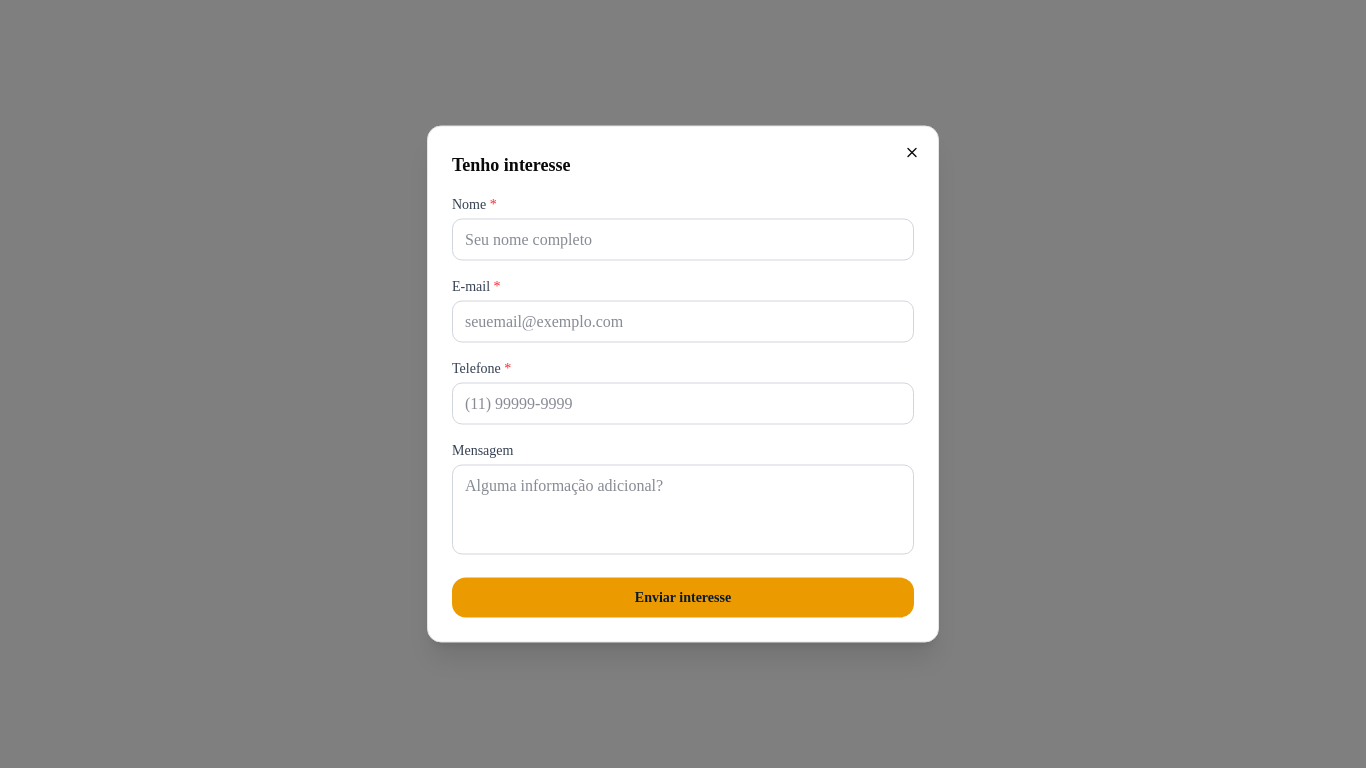
Test: LeadVarejoModal › exibe mensagem "Entraremos em contato em breve" após envio bem-sucedido
Type "João Silva" into the field labelled "Nome *" at (683, 240), box [452,218,914,260]
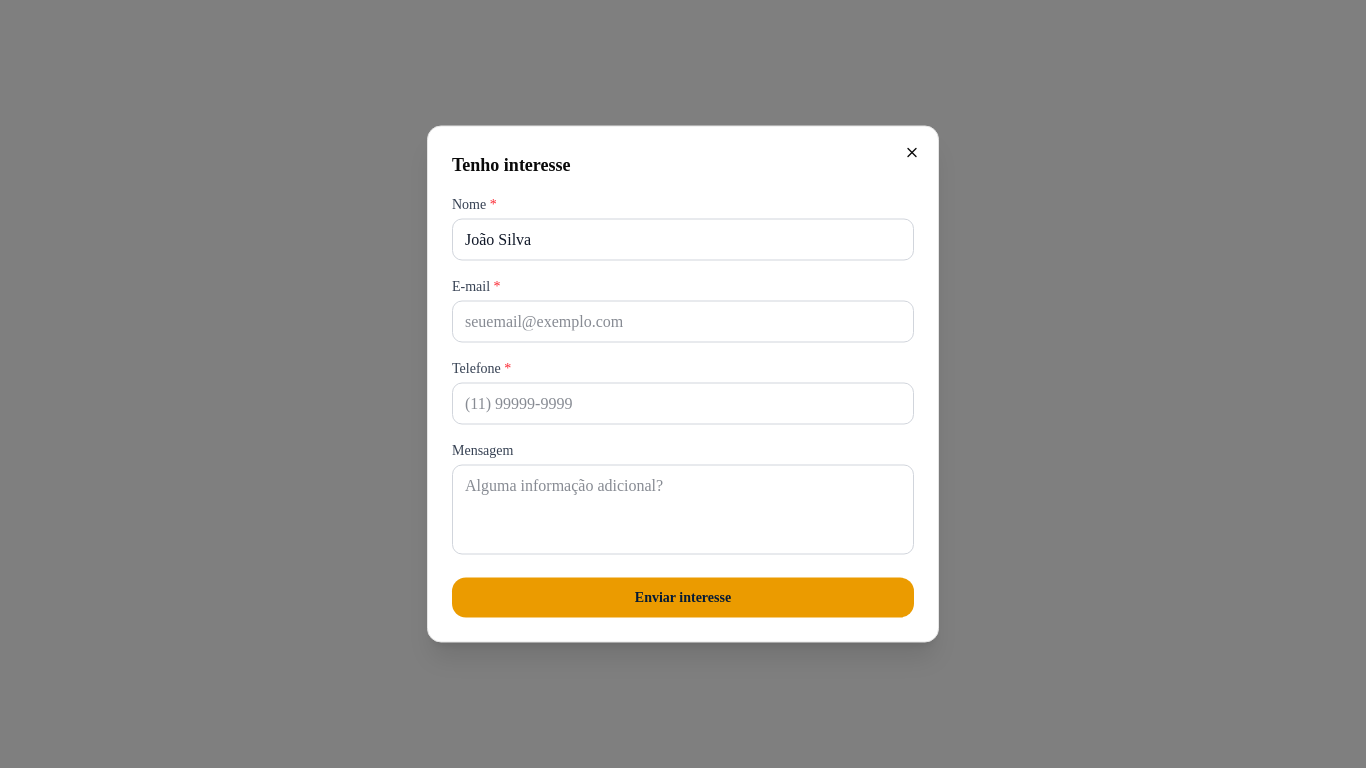
Type "joao@example.com" into the field labelled "E-mail *" at (683, 322), box [452,300,914,342]
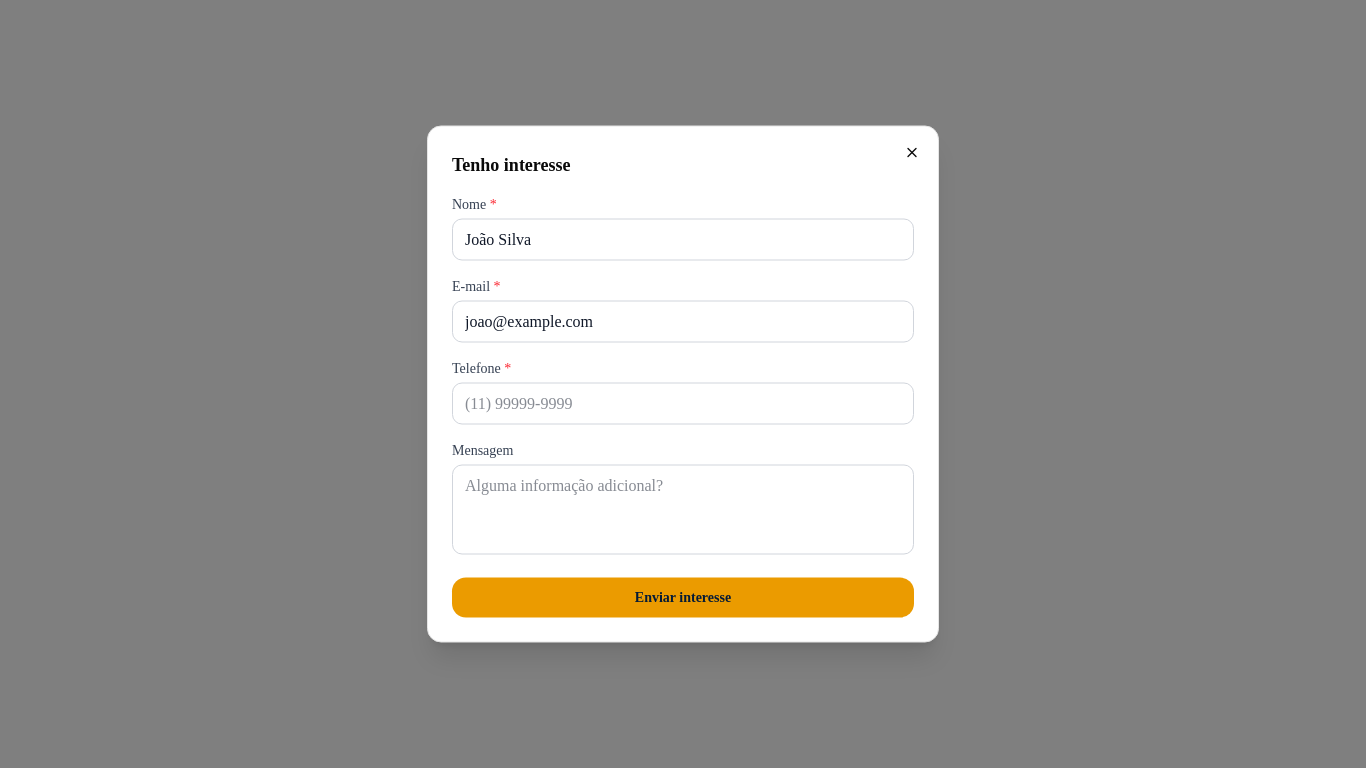
Type "11999999999" into the field labelled "Telefone *" at (683, 404), box [452,382,914,424]
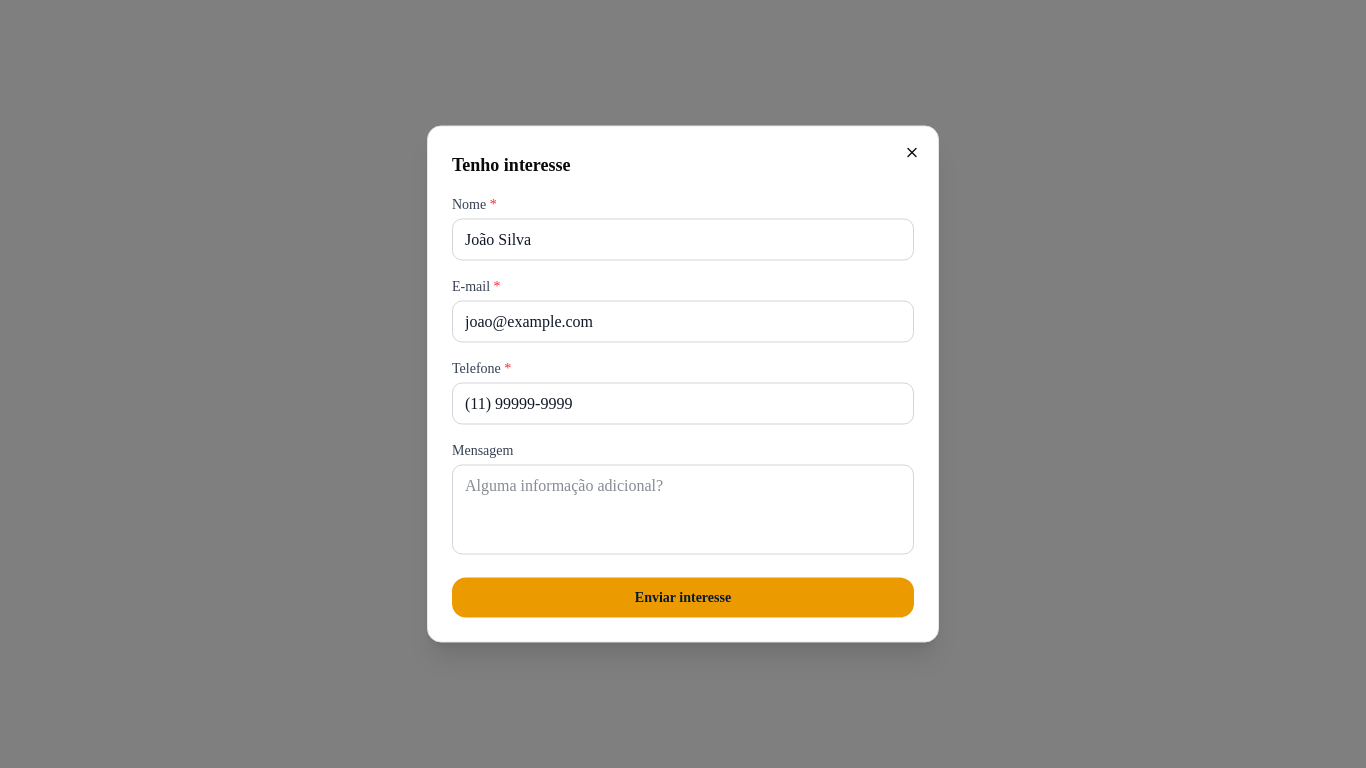
Submit the form with test id "form-varejo", box [452,194,914,618]
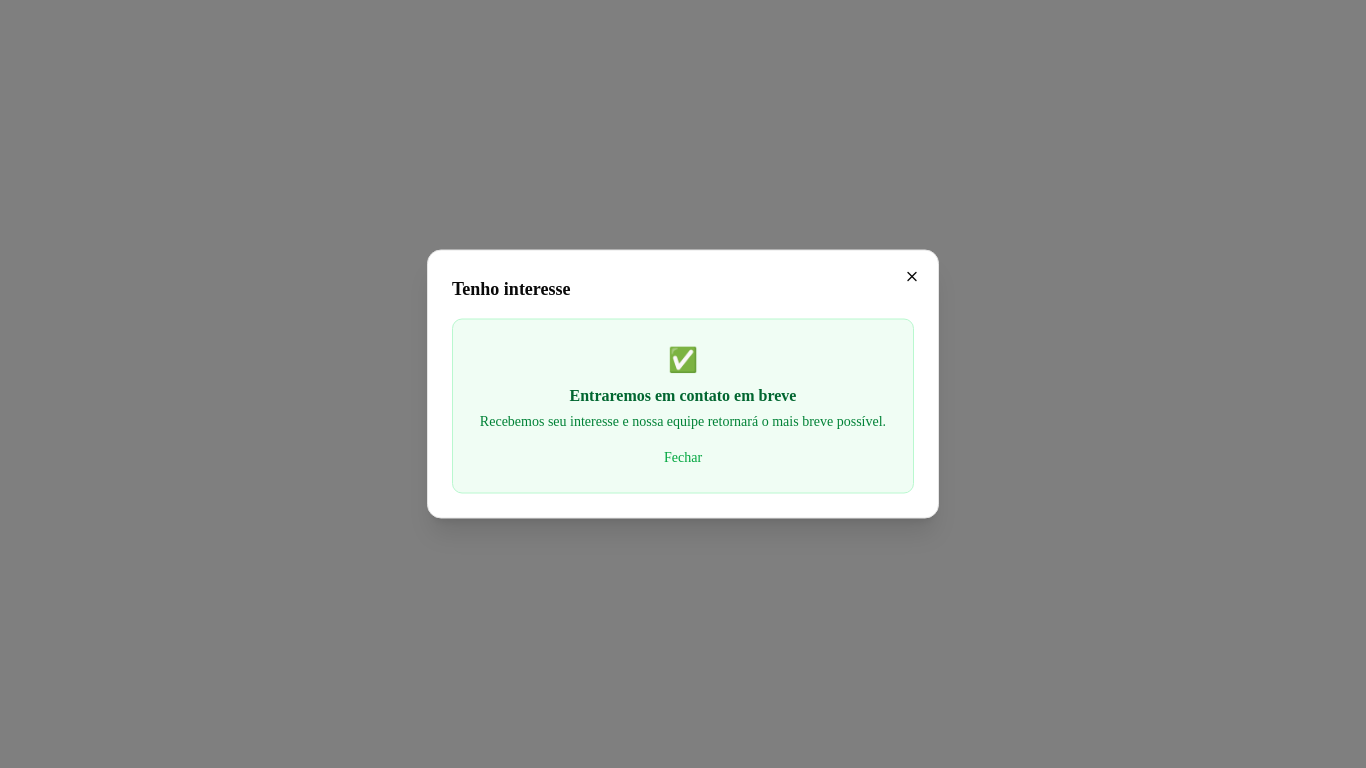
Result: the element with test id "success-message" is shown at [452,318,914,494]
Result: the heading "Entraremos em contato em breve" is shown at [570,386,796,404]
